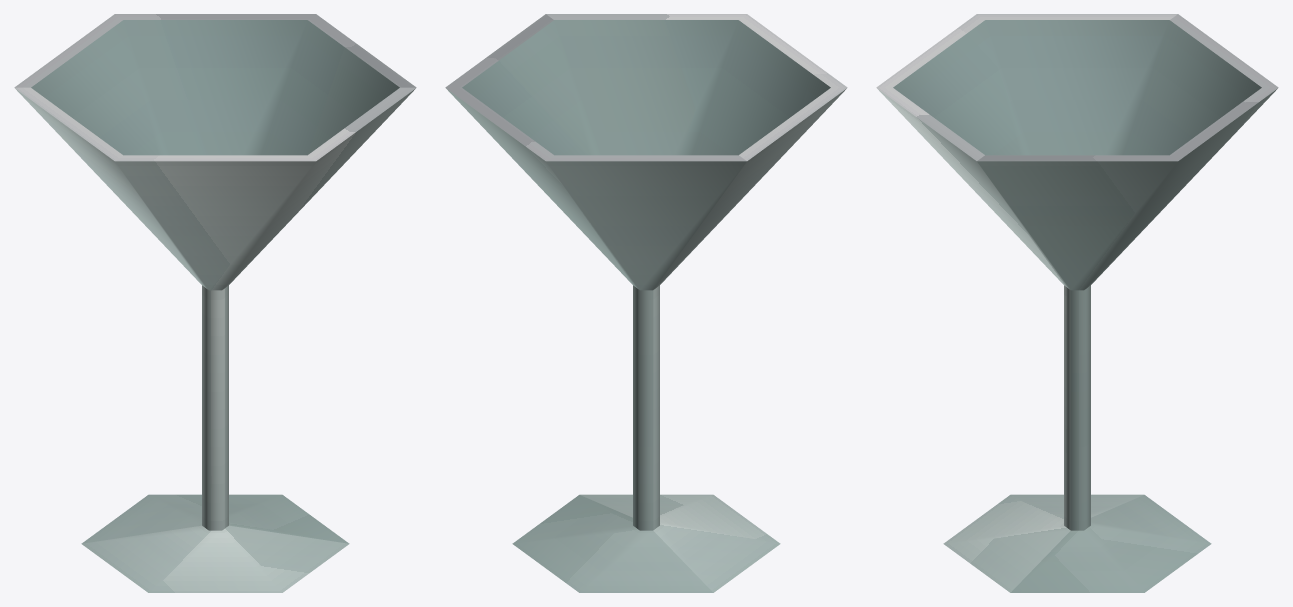
Rendered from martini-glass.glb.
The picture shows the model from 3 angles, left to right: view 1: azimuth 30°, elevation 25°; view 2: azimuth 150°, elevation 25°; view 3: azimuth 270°, elevation 25°; orthographic projection.
Parts seen in each view (by area): view 1: martini-glass; view 2: martini-glass; view 3: martini-glass.
Boxes of the visible parts, x1,y1,x2,y2 form: martini-glass: (14, 14, 416, 592); martini-glass: (445, 14, 847, 592); martini-glass: (876, 14, 1278, 592).
Bounding box in the file's own units: 0.1039 × 0.15 × 0.12.
Materials: 1 (1 with a texture image).
